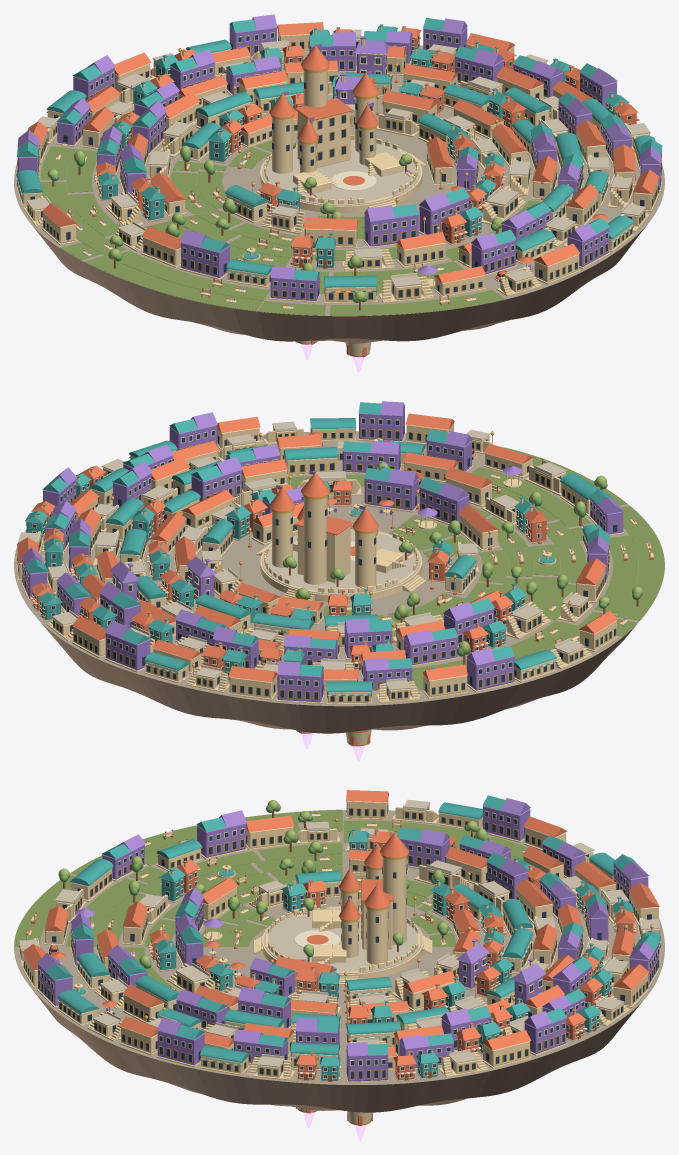
The model's file is BopKingdom.glb.
3 views of the same model, one above another, from view 1: azimuth 30°, elevation 25°; view 2: azimuth 150°, elevation 25°; view 3: azimuth 270°, elevation 25° (orthographic).
Visible parts, largest first — view 1: castle_courtyard_0001, ring_09_chunk_05_rock, ring_09_chunk_04_rock, ring_09_chunk_06_rock, ring_09_chunk_05, ring_09_chunk_04, ring_08_chunk_04, twin_gable_0078, ring_07_chunk_03, twin_gable_0210, ring_08_chunk_03, twin_gable_0217 (+106 smaller); view 2: castle_courtyard_0001, ring_09_chunk_02_rock, ring_09_chunk_03_rock, ring_09_chunk_01_rock, ring_09_chunk_04, twin_gable_0080, ring_08_chunk_04, twin_gable_0296, twin_gable_0290, twin_gable_0312, twin_gable_0284, twin_gable_0165 (+96 smaller); view 3: castle_courtyard_0001, ring_09_chunk_00_rock, ring_09_chunk_07_rock, twin_gable_0210, twin_gable_0318, twin_gable_0296, twin_gable_0272, ring_09_chunk_06_rock, ring_09_chunk_01_rock, twin_gable_0131, twin_gable_0277, ring_06_chunk_04 (+105 smaller).
Boxes of the visible parts, x1,y1,x2,y2 form: castle_courtyard_0001: (256, 43, 425, 213); ring_09_chunk_05_rock: (257, 292, 505, 342); ring_09_chunk_04_rock: (60, 248, 264, 339); ring_09_chunk_06_rock: (480, 214, 654, 328); ring_09_chunk_05: (258, 290, 504, 315); ring_09_chunk_04: (60, 242, 263, 311); ring_08_chunk_04: (83, 237, 269, 300); twin_gable_0078: (363, 204, 418, 247); ring_07_chunk_03: (66, 149, 120, 236); twin_gable_0210: (180, 230, 230, 279); ring_08_chunk_03: (40, 146, 103, 241); twin_gable_0217: (471, 229, 516, 276); castle_courtyard_0001: (256, 470, 425, 602); ring_09_chunk_02_rock: (180, 680, 425, 733); ring_09_chunk_03_rock: (412, 635, 622, 728); ring_09_chunk_01_rock: (26, 603, 194, 715); ring_09_chunk_04: (616, 532, 664, 636); twin_gable_0080: (363, 468, 419, 512); ring_08_chunk_04: (578, 535, 638, 626); twin_gable_0296: (466, 646, 515, 692); twin_gable_0290: (277, 661, 324, 704); twin_gable_0312: (358, 401, 405, 442); twin_gable_0284: (104, 620, 150, 672); twin_gable_0165: (403, 627, 458, 666); castle_courtyard_0001: (253, 830, 432, 984); ring_09_chunk_00_rock: (343, 1042, 573, 1112); ring_09_chunk_07_rock: (113, 1041, 342, 1110); twin_gable_0210: (196, 810, 247, 859); twin_gable_0318: (156, 1017, 204, 1067); twin_gable_0296: (482, 795, 530, 842); twin_gable_0272: (346, 1042, 388, 1083); ring_09_chunk_06_rock: (14, 947, 133, 1074); ring_09_chunk_01_rock: (553, 947, 664, 1070); twin_gable_0131: (397, 827, 449, 868); twin_gable_0277: (524, 1008, 567, 1055); ring_06_chunk_04: (196, 842, 342, 876).
Size of the model in its own units: 94.9 by 47.8 by 94.8.
